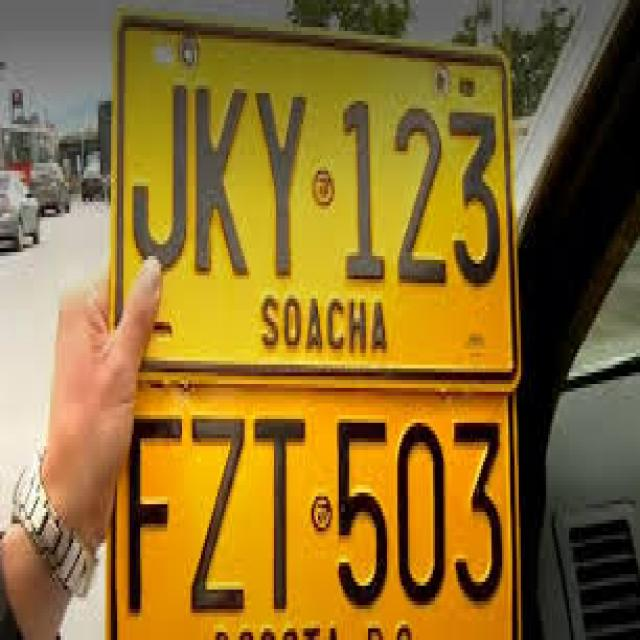placa_carro: (118, 13, 514, 386), (103, 374, 521, 636)
